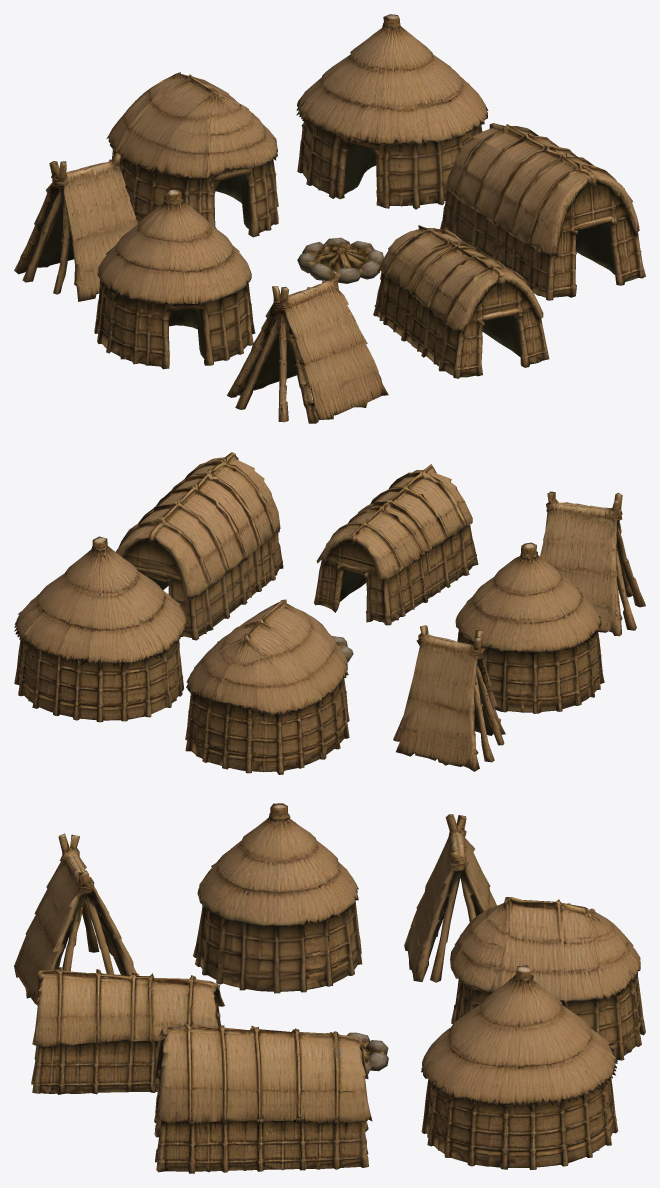
File: Prehistoric Village (South Asian).fbx
The picture shows the model from 3 angles, top to bottom: view 1: azimuth 30°, elevation 25°; view 2: azimuth 150°, elevation 25°; view 3: azimuth 270°, elevation 25°; orthographic projection. The views are drawn at different scales.
Parts seen in each view (by area): view 1: tripo_node_74550da0; view 2: tripo_node_74550da0; view 3: tripo_node_74550da0.
Boxes of the visible parts, bbox=[...] form: tripo_node_74550da0: bbox=[14, 14, 645, 423]; tripo_node_74550da0: bbox=[14, 452, 645, 774]; tripo_node_74550da0: bbox=[14, 803, 645, 1173].
Size of the model in its own units: 0.9381 by 0.292 by 1.
